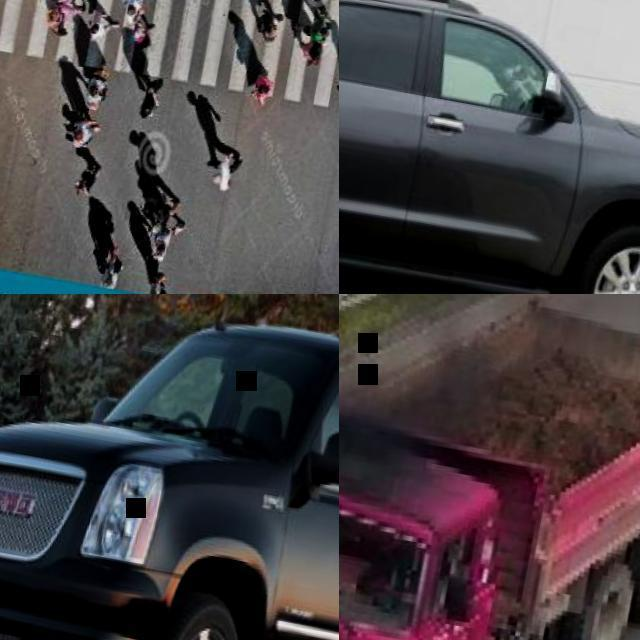car: (0, 318, 342, 636), (340, 0, 638, 289)
